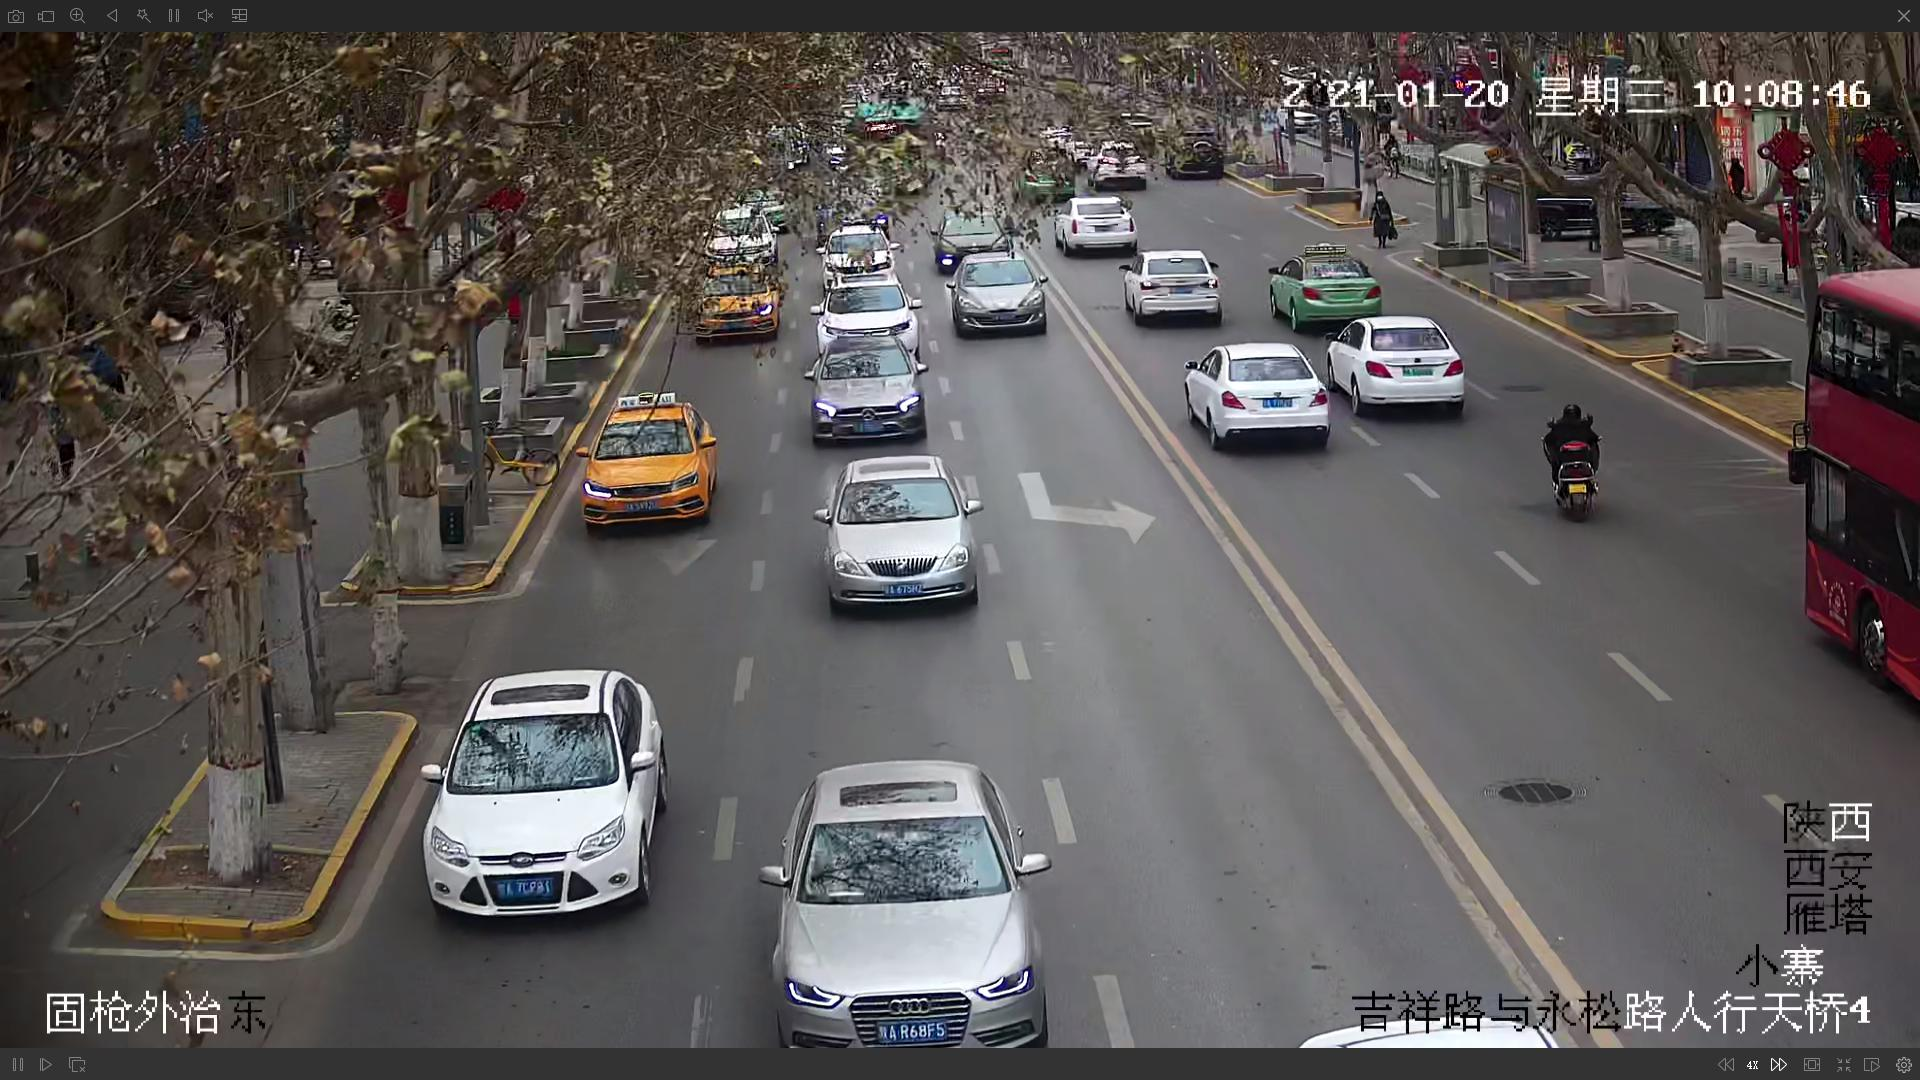orange: (578, 396, 709, 527)
silver-gray: (764, 761, 1054, 1043), (820, 451, 981, 617)
white: (421, 670, 665, 924)
